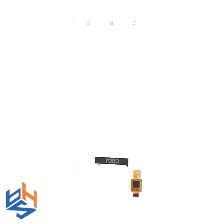phone: (64, 11, 153, 174)
